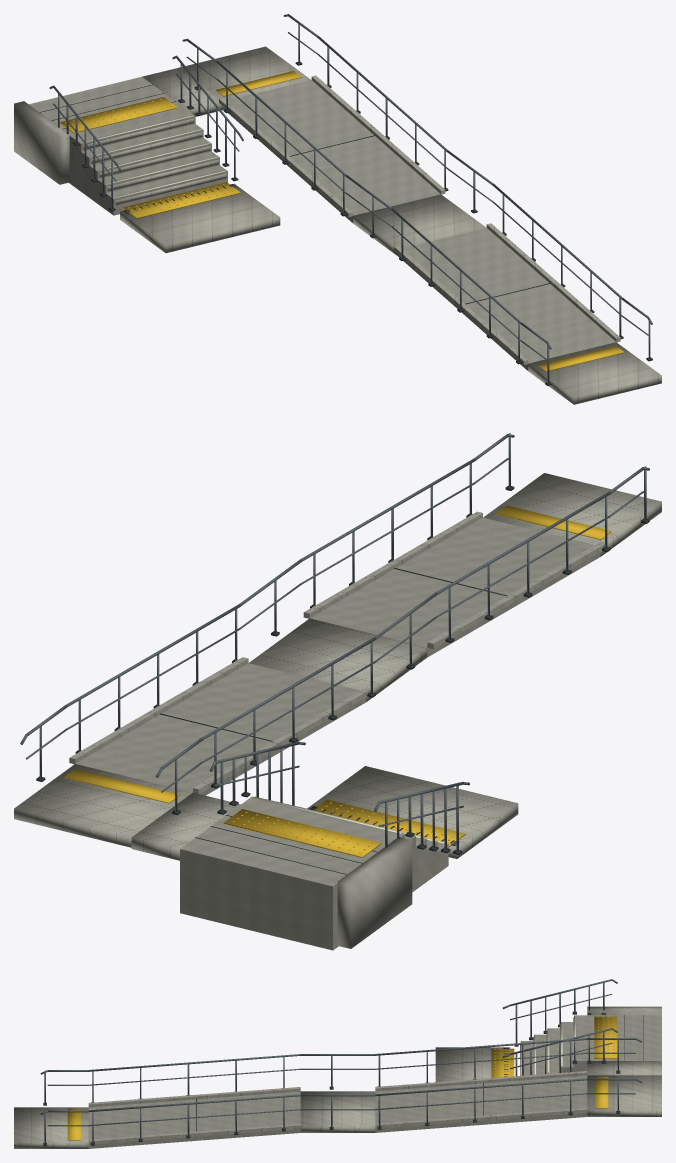
3 renders of one model, top to bottom at view 1: azimuth 30°, elevation 25°; view 2: azimuth 150°, elevation 25°; view 3: azimuth 270°, elevation 25°, orthographic. The views are drawn at different scales.
Parts seen in each view (by area): view 1: VIS_Ramp_Run_01, VIS_Ramp_Run_02, VIS_Stair_Flight_Solid, VIS_Lower_Stair_Forecourt, VIS_Ramp_Lower_Level_Landing, VIS_Ramp_Intermediate_Landing_1, VIS_Civic_Plinth_Left, VIS_Ramp_Upper_Level_Landing, VIS_Upper_Plaza_Connector, VIS_Tactile_Bottom, VIS_Tactile_Top, VIS_Ramp_Edge_Curb_R_2 (+10 smaller); view 2: VIS_Stair_Flight_Solid, VIS_Ramp_Run_01, VIS_Ramp_Run_02, VIS_Ramp_Intermediate_Landing_1, VIS_Ramp_Upper_Level_Landing, VIS_Lower_Stair_Forecourt, VIS_Ramp_Lower_Level_Landing, VIS_Civic_Plinth_Left, VIS_Upper_Plaza_Connector, VIS_Tactile_Top, VIS_Ramp_Edge_Curb_R_2, VIS_Ramp_Edge_Curb_R_1 (+5 smaller); view 3: VIS_Ramp_Run_01, VIS_Ramp_Run_02, VIS_Stair_Flight_Solid, VIS_Ramp_Intermediate_Landing_1, VIS_Ramp_Lower_Level_Landing, VIS_Ramp_Upper_Level_Landing, VIS_Lower_Stair_Forecourt, VIS_Ramp_Edge_Curb_R_1, VIS_Ramp_Edge_Curb_R_2, VIS_Ramp_Edge_Curb_L_2, VIS_Ramp_Edge_Curb_L_1, VIS_Upper_Plaza_Connector (+13 smaller).
Part boxes in pixels (left/top/right/bottom): VIS_Ramp_Run_01: left=398, top=228, right=615, bottom=370; VIS_Ramp_Run_02: left=223, top=80, right=440, bottom=222; VIS_Stair_Flight_Solid: left=29, top=76, right=227, bottom=215; VIS_Lower_Stair_Forecourt: left=120, top=183, right=280, bottom=253; VIS_Ramp_Lower_Level_Landing: left=528, top=342, right=661, bottom=404; VIS_Ramp_Intermediate_Landing_1: left=353, top=194, right=486, bottom=256; VIS_Civic_Plinth_Left: left=14, top=101, right=69, bottom=184; VIS_Ramp_Upper_Level_Landing: left=178, top=46, right=310, bottom=100; VIS_Upper_Plaza_Connector: left=142, top=68, right=223, bottom=116; VIS_Tactile_Bottom: left=123, top=182, right=240, bottom=218; VIS_Tactile_Top: left=60, top=97, right=177, bottom=133; VIS_Ramp_Edge_Curb_R_2: left=311, top=75, right=445, bottom=194; VIS_Stair_Flight_Solid: left=180, top=796, right=448, bottom=950; VIS_Ramp_Run_01: left=310, top=517, right=600, bottom=657; VIS_Ramp_Run_02: left=75, top=663, right=366, bottom=795; VIS_Ramp_Intermediate_Landing_1: left=249, top=618, right=427, bottom=701; VIS_Ramp_Upper_Level_Landing: left=14, top=764, right=192, bottom=847; VIS_Lower_Stair_Forecourt: left=307, top=766, right=518, bottom=858; VIS_Ramp_Lower_Level_Landing: left=483, top=473, right=661, bottom=556; VIS_Civic_Plinth_Left: left=337, top=837, right=412, bottom=948; VIS_Upper_Plaza_Connector: left=131, top=792, right=240, bottom=860; VIS_Tactile_Top: left=223, top=809, right=381, bottom=857; VIS_Ramp_Edge_Curb_R_2: left=69, top=657, right=248, bottom=764; VIS_Ramp_Edge_Curb_R_1: left=303, top=511, right=482, bottom=618; VIS_Ramp_Run_01: left=88, top=1091, right=300, bottom=1148; VIS_Ramp_Run_02: left=375, top=1075, right=587, bottom=1132; VIS_Stair_Flight_Solid: left=520, top=1015, right=661, bottom=1075; VIS_Ramp_Intermediate_Landing_1: left=300, top=1091, right=375, bottom=1132; VIS_Ramp_Lower_Level_Landing: left=14, top=1107, right=88, bottom=1148; VIS_Ramp_Upper_Level_Landing: left=587, top=1075, right=661, bottom=1116; VIS_Lower_Stair_Forecourt: left=435, top=1047, right=510, bottom=1082; VIS_Ramp_Edge_Curb_R_1: left=88, top=1123, right=300, bottom=1144; VIS_Ramp_Edge_Curb_R_2: left=375, top=1107, right=587, bottom=1128; VIS_Ramp_Edge_Curb_L_2: left=375, top=1071, right=587, bottom=1091; VIS_Ramp_Edge_Curb_L_1: left=88, top=1087, right=300, bottom=1107; VIS_Upper_Plaza_Connector: left=587, top=1061, right=661, bottom=1075.
Size of the model in its own units: 5.92 by 1.96 by 15.6.
Materials: 7 (7 with a texture image).
